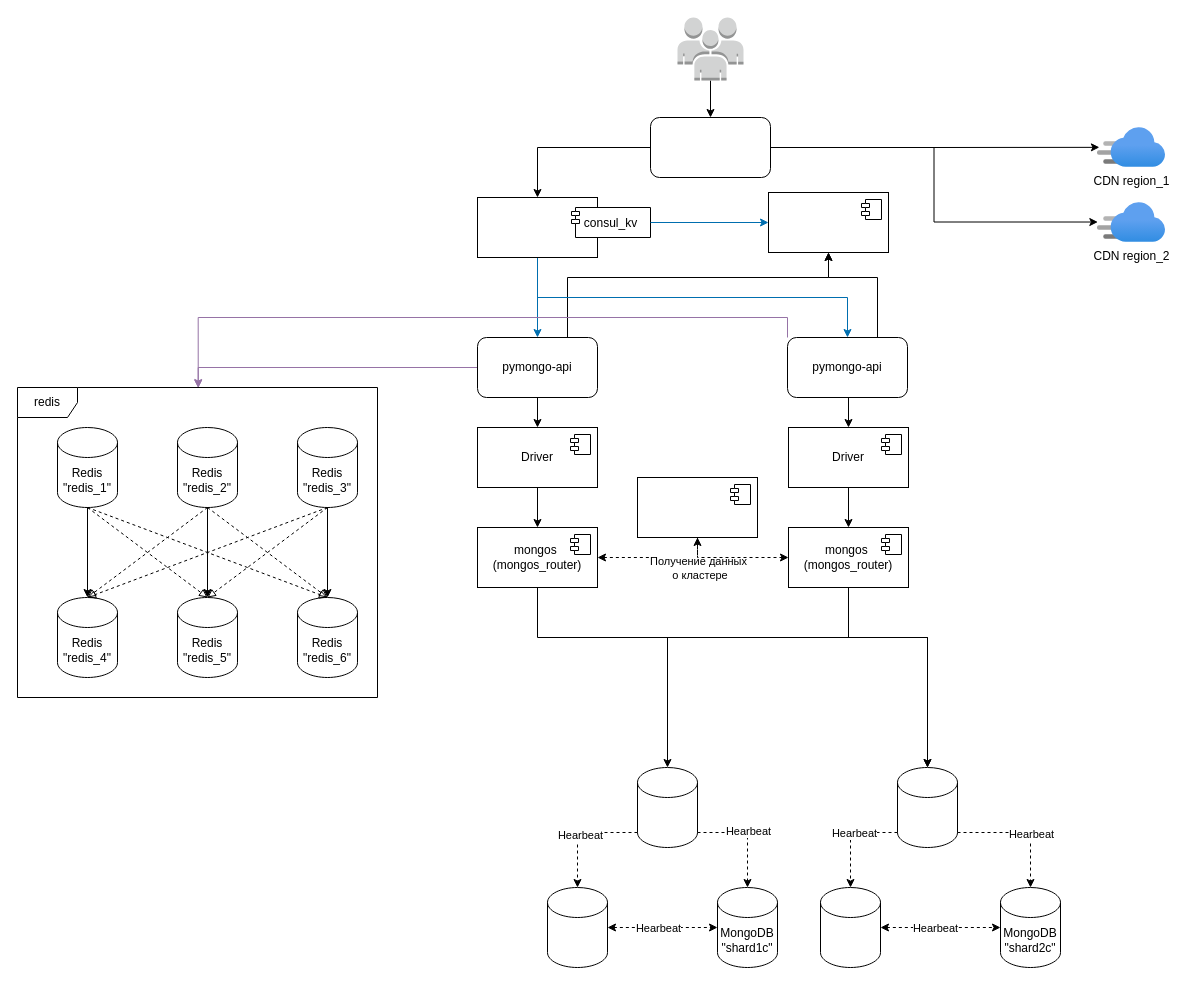
The diagram is 1187 pixels wide and 985 high, and some of its shapes have lost their labels. Each missing label, with the centre of its shape:
APISIX Gateway: (537,227)
config server (configSrv): (697,507)
Consul: (828,222)
MongoDB "shard1a": (667,807)
MongoDB "shard1b": (577,927)
MongoDB "shard2a": (927,807)
MongoDB "shard2b": (850,927)
Сайт React/nginx: (710,147)
